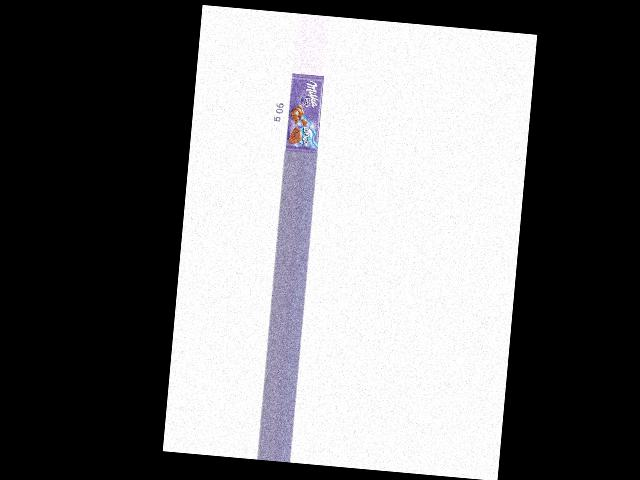chocolate: (285, 74, 324, 154)
